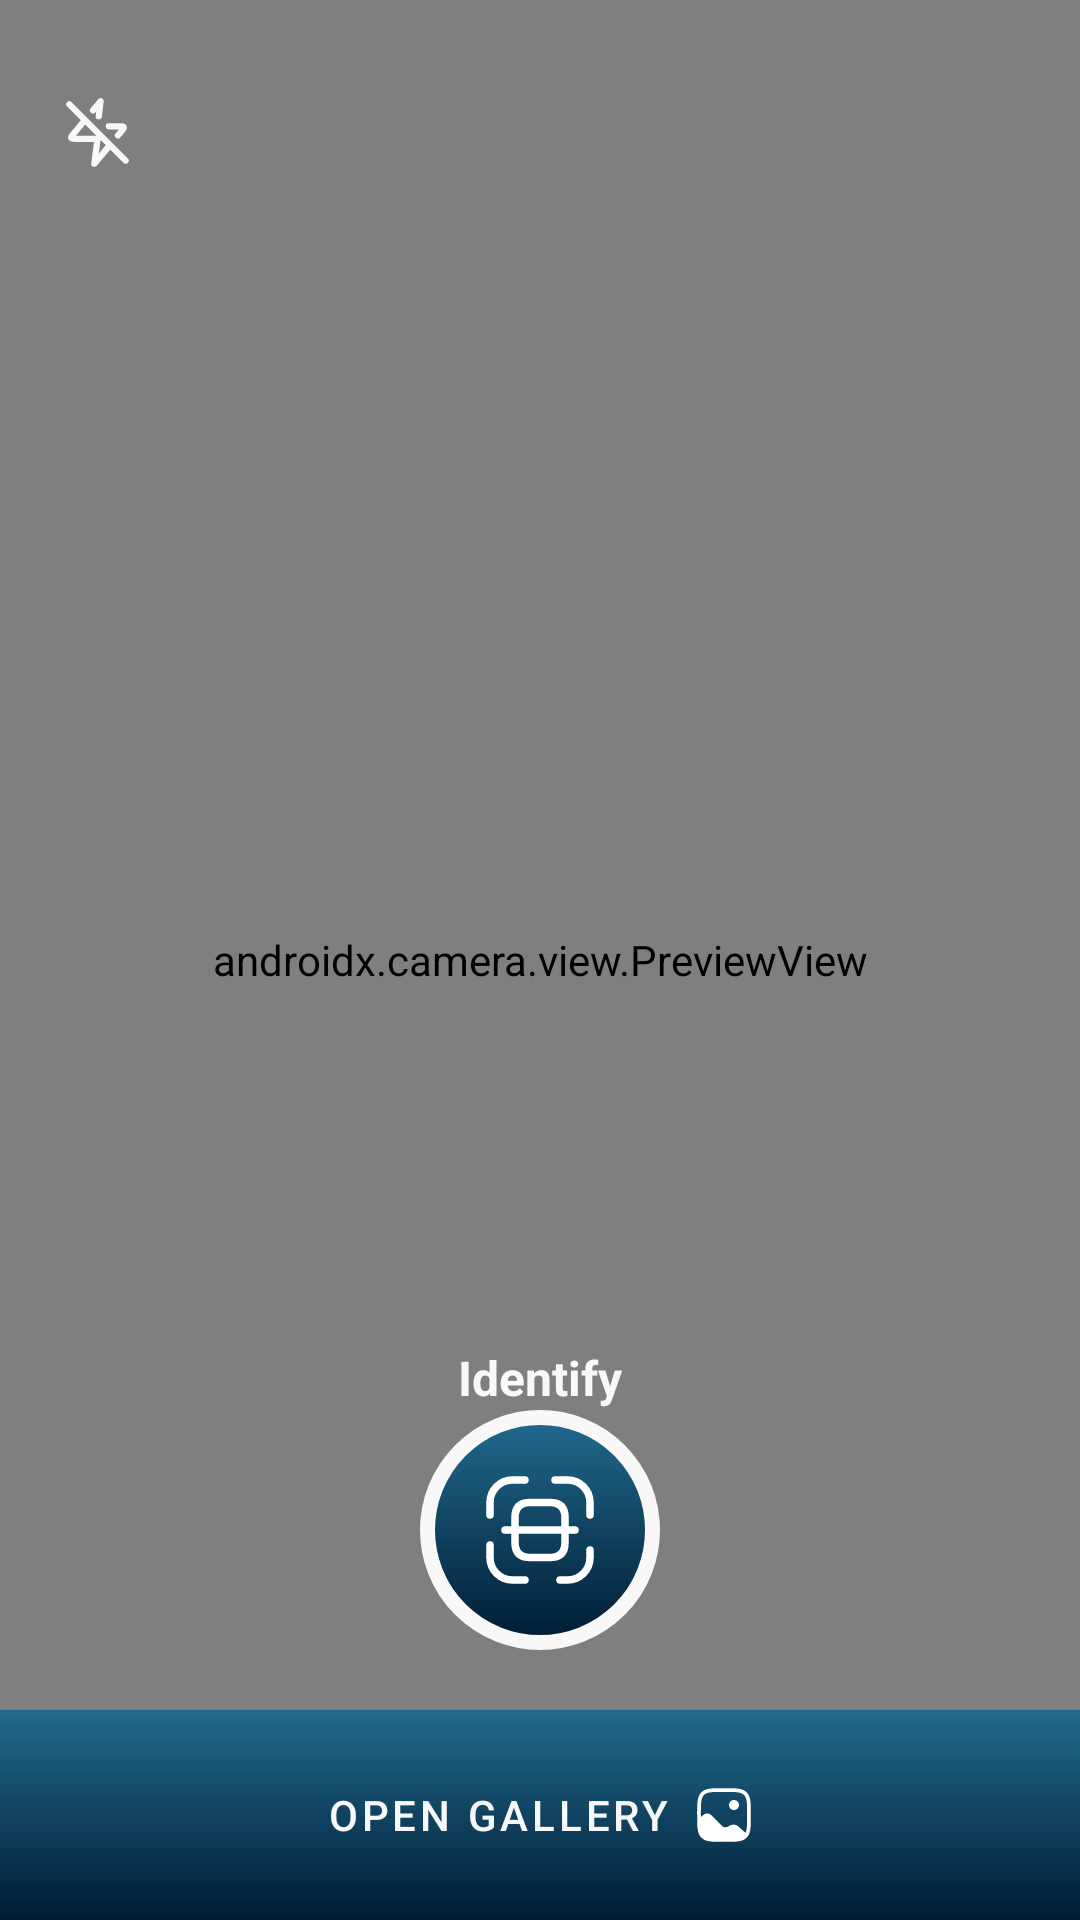

Where icons sit on this 1080x1920 app screen, as BBox(x1, y1, x2, y2):
flash off: BBox(66, 98, 129, 167)
scan: BBox(420, 1410, 660, 1650)
